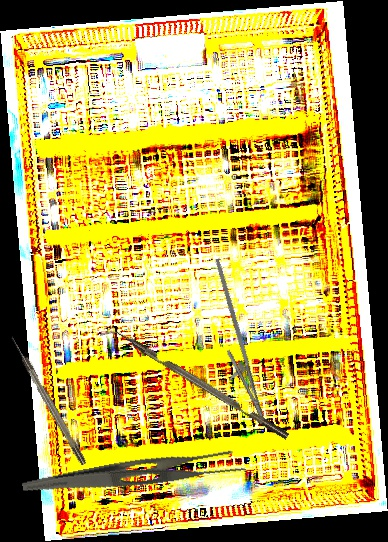Chopper: (99, 320, 290, 449)
Dressing Forceps: (21, 439, 247, 516)
Hook Surgical: (8, 334, 88, 467)
Needle Holder: (184, 258, 284, 426)
